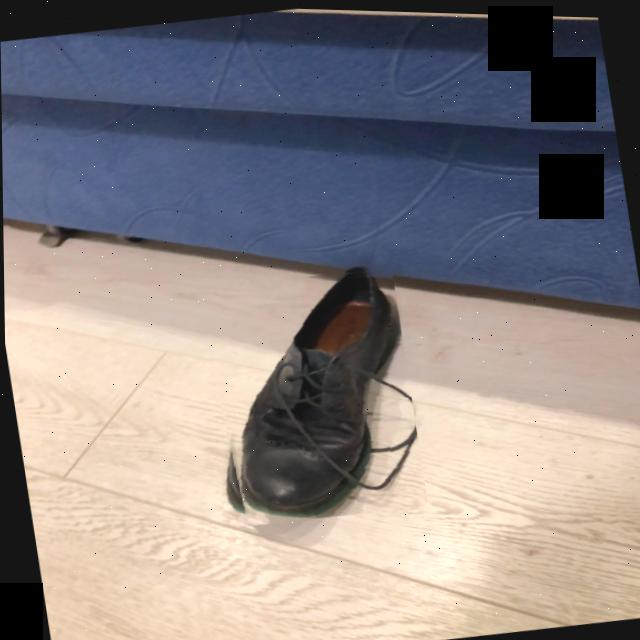shoe: (236, 269, 401, 519)
